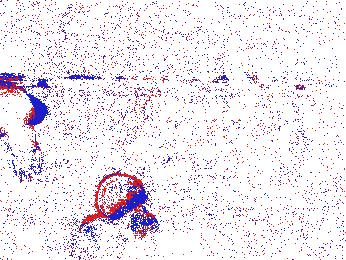flame jellyfish: (1, 83, 48, 182), (94, 172, 158, 237), (72, 213, 128, 260)
